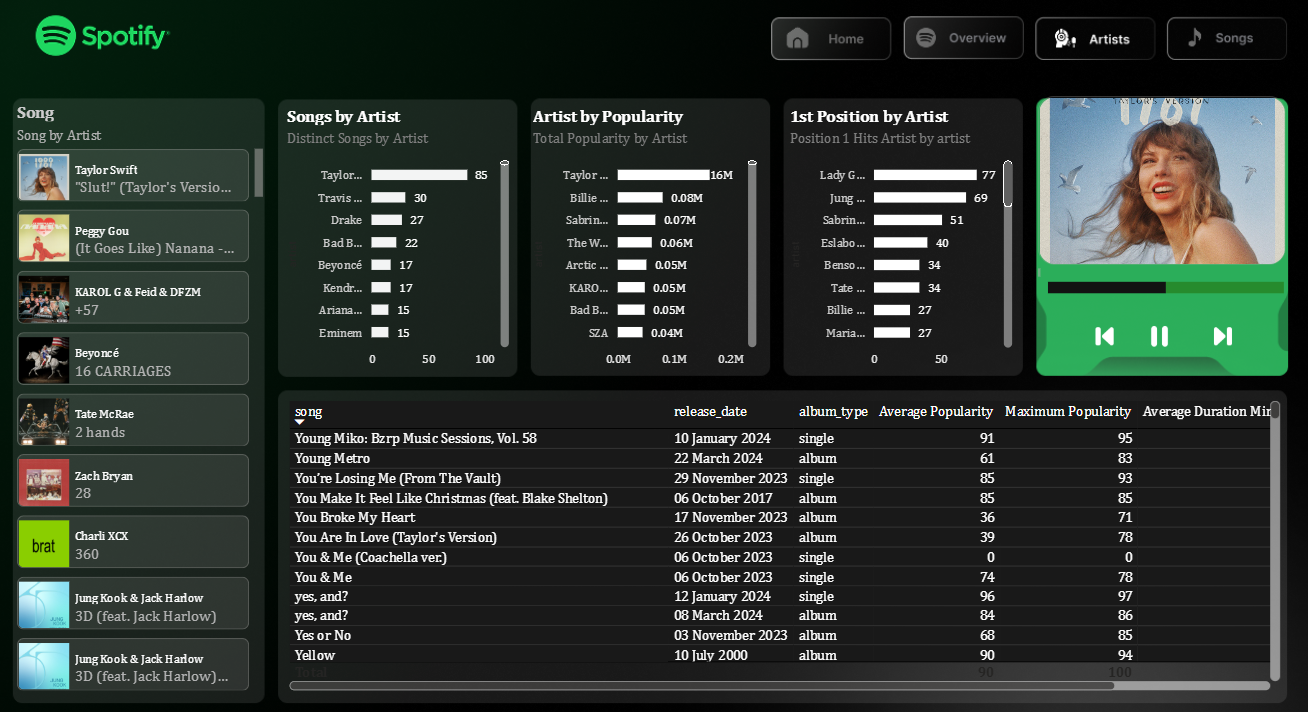

What the dashboard file says about the page in this screenshot:
{"tool":"powerbi","page":{"name":"Artists","canvas":[1280,720],"ordinal":2},"visuals":[{"type":"actionButton","box":[757.2,33.3,114.6,42.2],"z":0},{"type":"actionButton","box":[882.6,33.3,114.6,42.2],"z":1000},{"type":"actionButton","box":[1008.1,33.3,114.6,42.2],"z":2000},{"type":"actionButton","box":[1137.2,33.3,114.6,42.2],"z":3000},{"type":"advancedSlicerVisual","title":"Song ","fields":{"Values":["Top-50-World.song"]},"box":[1008.6,106.2,249.7,187],"z":4000},{"type":"hundredPercentStackedBarChart","fields":{"Y":["Measure.Average Popularity","Avg(Top-50-World.popularity)"]},"box":[1018.2,250.9,237.7,84.5],"z":5000},{"type":"image","box":[1171.4,328.6,41,30.2],"z":6000},{"type":"image","box":[1058,328.6,39.8,30.2],"z":7000},{"type":"image","box":[1111.1,328.6,39.8,30.2],"z":8000},{"type":"shape","box":[1001.3,102.5,265.4,298],"z":9000},{"type":"advancedSlicerVisual","title":"Song ","fields":{"Values":["Top-50-World.song"]},"box":[22.9,117,247.3,573.1],"z":12000},{"type":"tableEx","fields":{"Values":["Top-50-World.song","Top-50-World.release_date","Top-50-World.album_type","Measure.Average Popularity","Measure.Maximum Popularity","Measure.Average Duration Minutes","Measure.Average Duration Years"]},"box":[285.1,401,967.2,289.1],"z":12002},{"type":"barChart","title":"Songs by Artist","fields":{"Category":["Top-50-World.artist"],"Y":["Measure.Distinct song"]},"box":[283.5,120.6,224.4,259.4],"z":12003},{"type":"barChart","title":"Artist by Popularity","fields":{"Y":["Sum(Top-50-World.popularity)"],"Category":["Top-50-World.artist"]},"box":[521.2,120.6,225.6,259.4],"z":12004},{"type":"barChart","title":"1st Position by Artist","fields":{"Y":["Measure.Position 1 Hits"],"Category":["Top-50-World.artist"]},"box":[768.7,121.2,225.1,259.8],"z":12005}]}

Visuals, with their boxes on the page's 1280x720 design canvas (x1, y1, x2, y2). These are canvas units, not pixel positions in the 1308x712 screenshot, which may show the page scaled, cropped or inside an application window:
actionButton: select_region(757, 33, 872, 76)
actionButton: select_region(883, 33, 997, 76)
actionButton: select_region(1008, 33, 1123, 76)
actionButton: select_region(1137, 33, 1252, 76)
"Song " advancedSlicerVisual: select_region(1009, 106, 1258, 293)
hundredPercentStackedBarChart - Measure.Average Popularity x Avg(Top-50-World.popularity): select_region(1018, 251, 1256, 335)
image: select_region(1171, 329, 1212, 359)
image: select_region(1058, 329, 1098, 359)
image: select_region(1111, 329, 1151, 359)
shape: select_region(1001, 102, 1267, 400)
"Song " advancedSlicerVisual: select_region(23, 117, 270, 690)
tableEx - Top-50-World.song x Top-50-World.release_date: select_region(285, 401, 1252, 690)
"Songs by Artist" barChart: select_region(284, 121, 508, 380)
"Artist by Popularity" barChart: select_region(521, 121, 747, 380)
"1st Position by Artist" barChart: select_region(769, 121, 994, 381)
